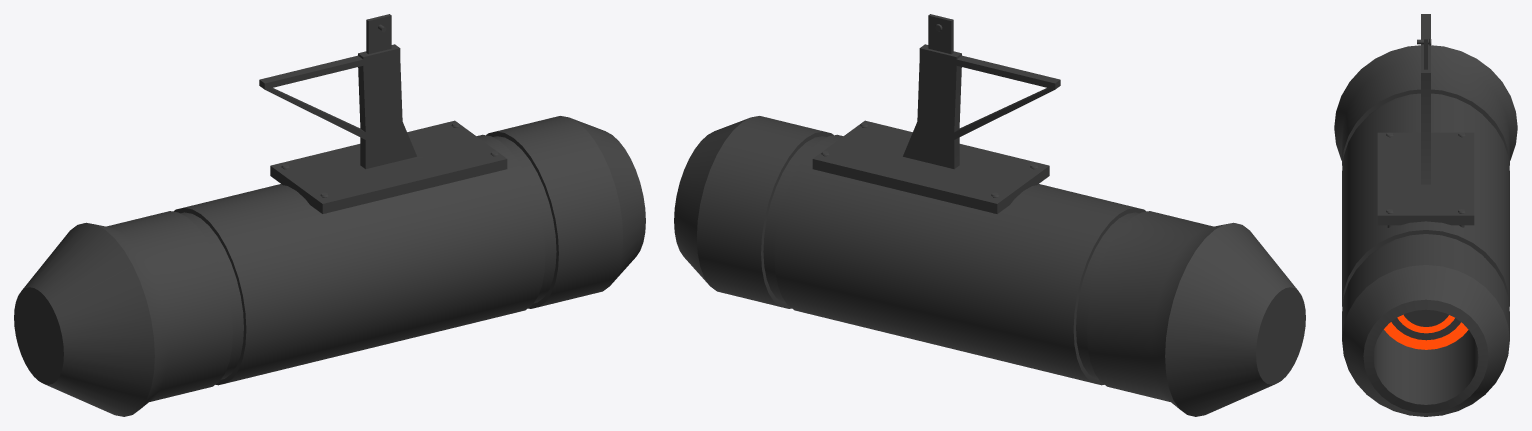
File: Propeller.fbx
3 views of the same model, side by side, from view 1: azimuth 30°, elevation 25°; view 2: azimuth 150°, elevation 25°; view 3: azimuth 270°, elevation 25° (orthographic). The views are drawn at different scales.
Visible parts, largest first — view 1: Propulsor; view 2: Propulsor; view 3: Propulsor.
Boxes of the visible parts, x1,y1,x2,y2 form: Propulsor: (14,14,645,416); Propulsor: (674,14,1305,416); Propulsor: (1334,14,1517,416).
Bounding box in the file's own units: 193 × 104 × 57.68.
